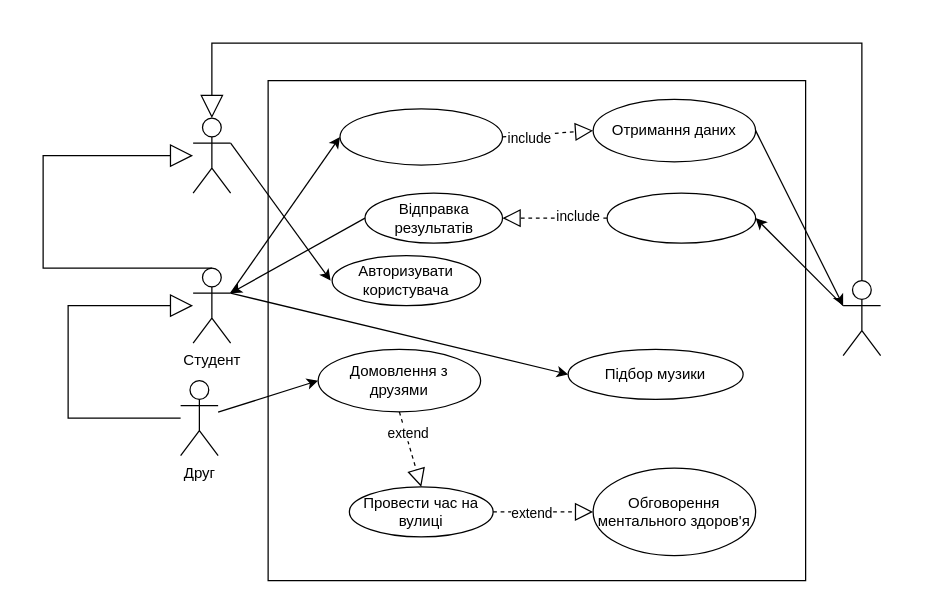
The diagram is 926 pixels wide and 603 high, and some of its shapes have lost their labels. The shapes that lost their labels are listed below. From the top down, each one's centre as x and y in pixels, then its label:
At pixel 211 155: "Користувач".
At pixel 420 136: "Запис інформації про сон".
At pixel 681 217: "Аналіз даних".
At pixel 861 317: "Консультант".
